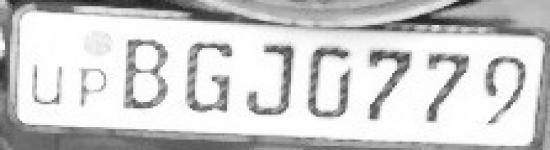0: (302, 43, 358, 123)
7: (416, 43, 476, 132), (360, 41, 416, 126)
9: (477, 49, 531, 132)
B: (120, 34, 175, 112)
G: (177, 35, 241, 116)
J: (240, 35, 303, 121)
P: (74, 65, 114, 113)
U: (29, 63, 68, 113)
